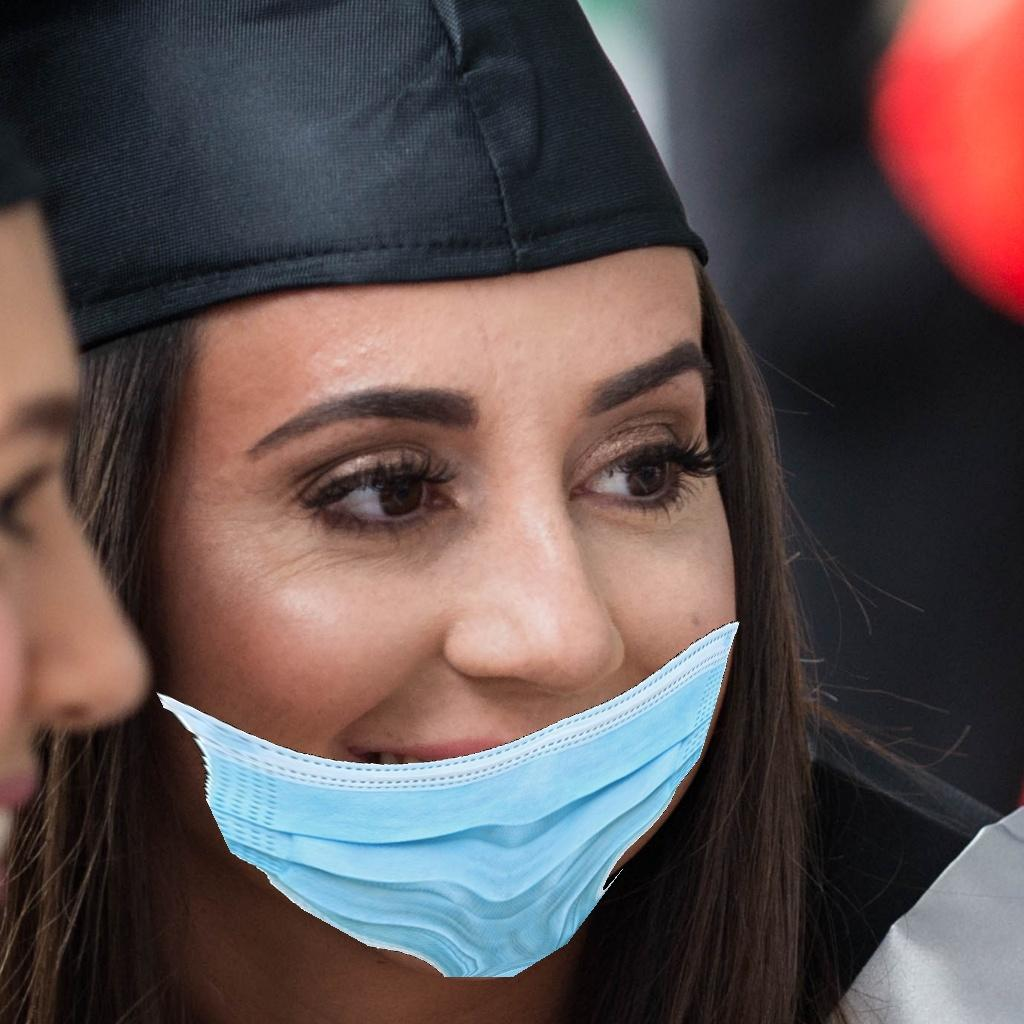Máscara Incorreta: (176, 318, 750, 951)
